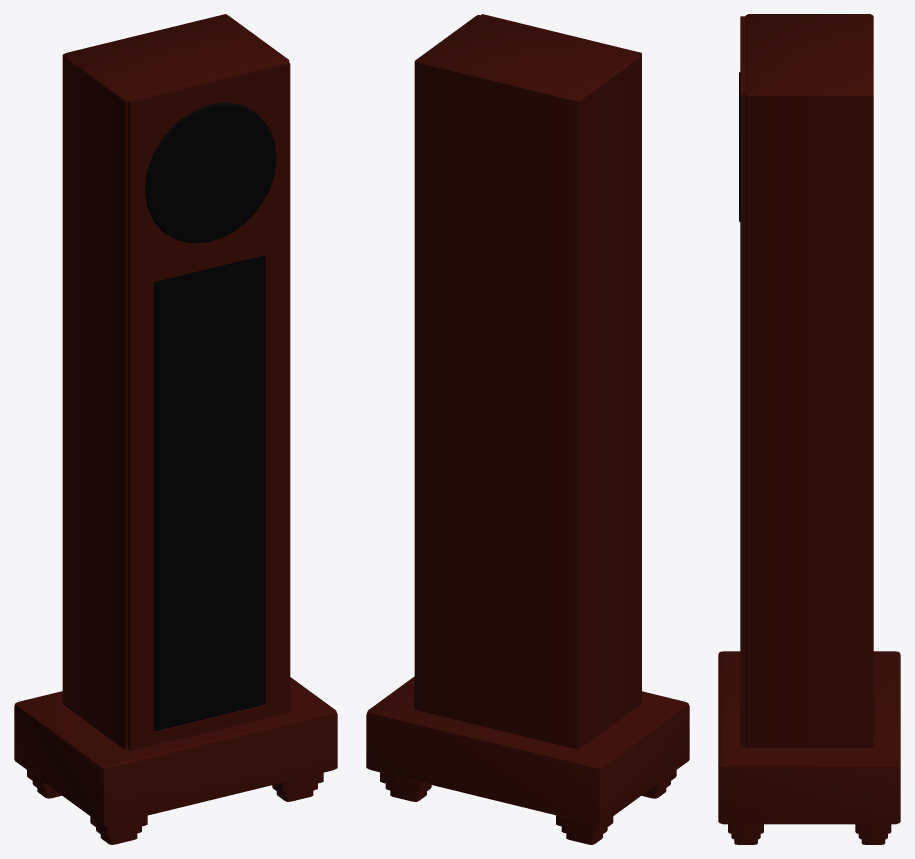
Rendered from clock.FBX.
3 views of the same model, side by side, from view 1: azimuth 30°, elevation 25°; view 2: azimuth 150°, elevation 25°; view 3: azimuth 270°, elevation 25° (orthographic).
Visible parts, largest first — view 1: Box001, Object003; view 2: Box001, Object003; view 3: Box001, Object003.
Part boxes in pixels (box(x1,y1,x2,y2)): Box001: box(62, 14, 290, 750); Object003: box(14, 677, 337, 844); Box001: box(414, 14, 641, 749); Object003: box(366, 676, 689, 844); Box001: box(739, 14, 873, 748); Object003: box(718, 651, 900, 844).
Size of the model in its own units: 42.77 by 128 by 28.51.
